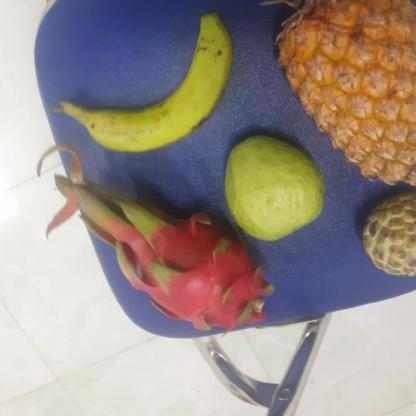annona: (356, 190, 416, 274)
banana: (61, 21, 230, 149)
guava: (219, 138, 325, 239)
pitaya: (132, 210, 270, 332)
